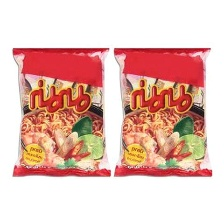snack: (110, 41, 220, 183), (8, 41, 115, 183)
